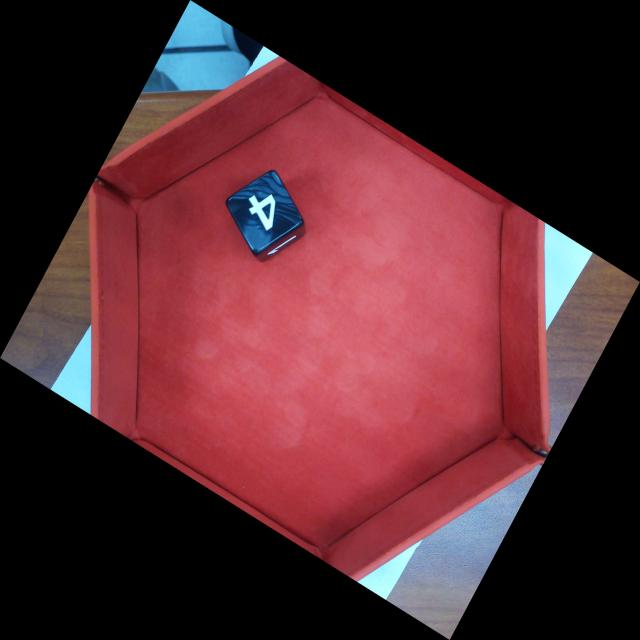dice: (226, 171, 305, 252)
